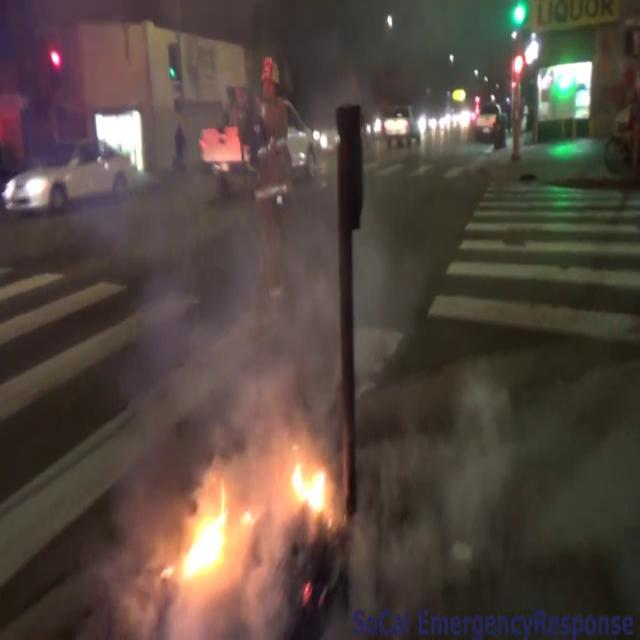Fire: (166, 481, 250, 595), (284, 446, 334, 528)
Smoke: (357, 346, 640, 616)
